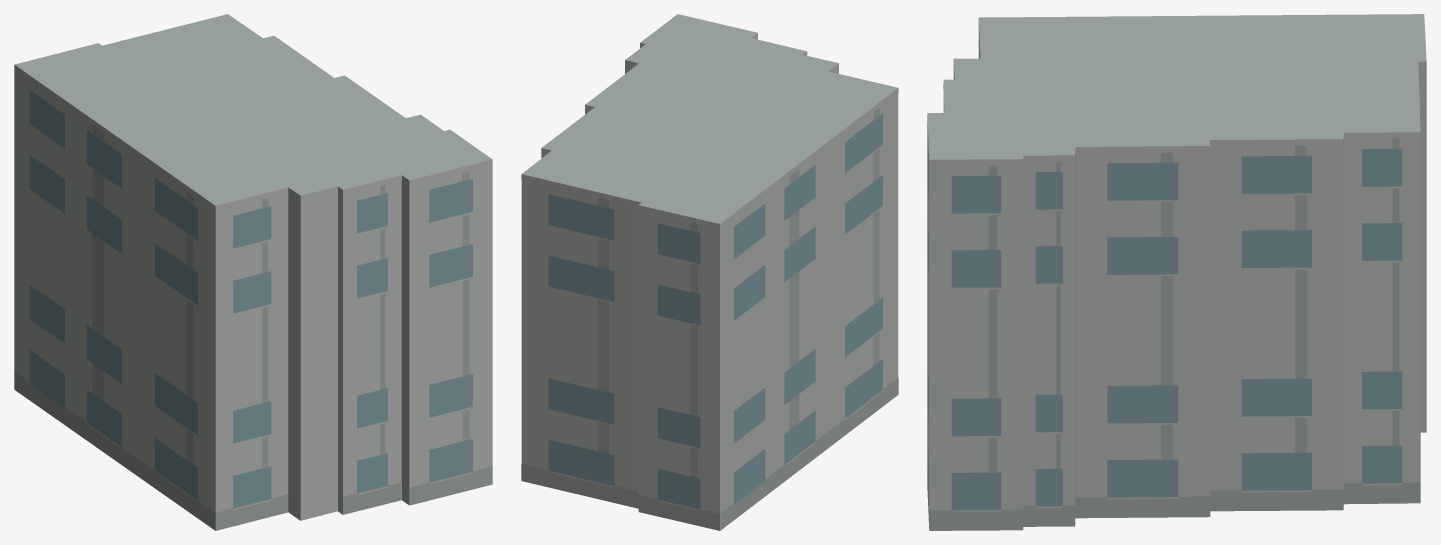
Rendered from survey-upis-32986814.glb.
3 views of the same model, side by side, from view 1: azimuth 30°, elevation 25°; view 2: azimuth 150°, elevation 25°; view 3: azimuth 270°, elevation 25° (orthographic). The views are drawn at different scales.
Visible parts, largest first — view 1: survey-upis-32986814.tmp; view 2: survey-upis-32986814.tmp; view 3: survey-upis-32986814.tmp.
Boxes of the visible parts, box(x1,y1,x2,y2) form: survey-upis-32986814.tmp: box(14, 14, 492, 530); survey-upis-32986814.tmp: box(521, 14, 898, 530); survey-upis-32986814.tmp: box(927, 14, 1426, 530).
Size of the model in its own units: 12.05 by 14.3 by 17.44.
